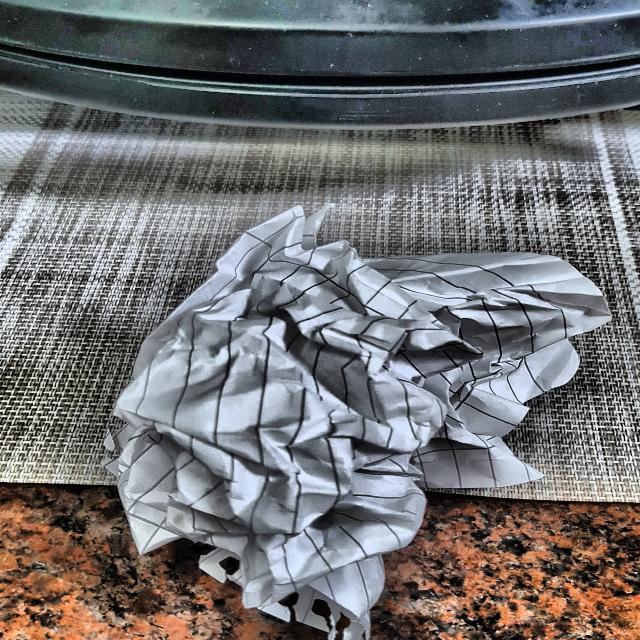paper: (100, 224, 609, 634)
